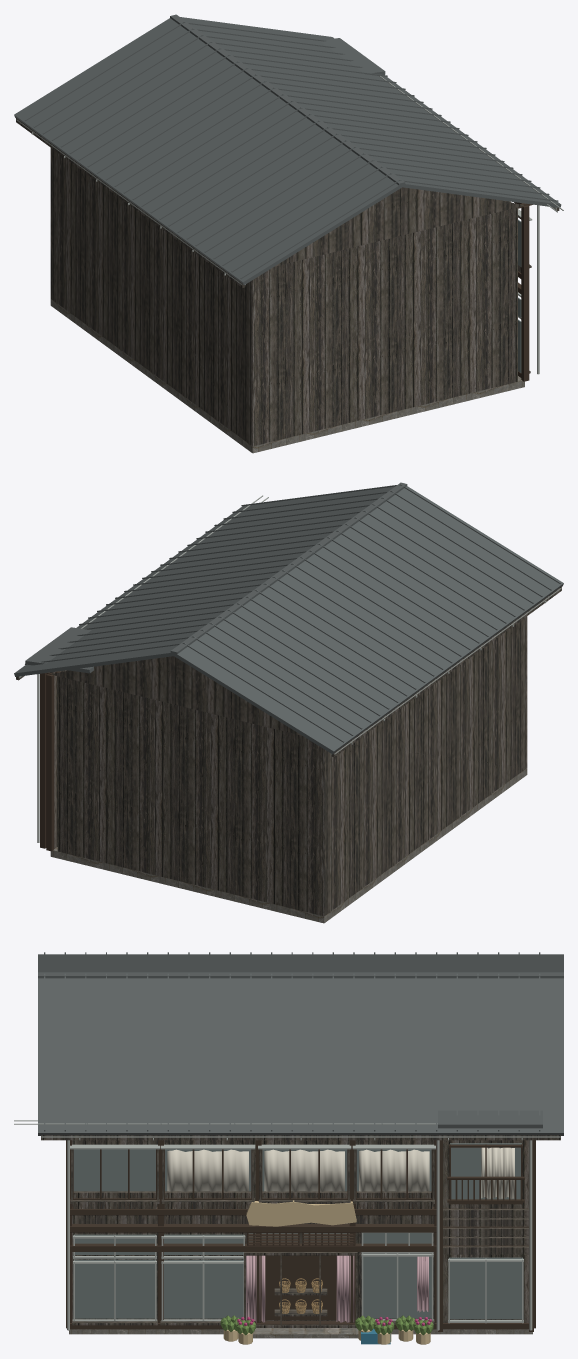
File: mori-workshop-v2.glb
3 views of the same model, one above another, from view 1: azimuth 30°, elevation 25°; view 2: azimuth 150°, elevation 25°; view 3: azimuth 270°, elevation 25° (orthographic). The views are drawn at different scales.
Parts seen in each view (by area): view 1: Craft display shelf runtime, Folded metal ridge cap runtime, Stone footing runtime, East continuous timber rail runtime, Downpipe runtime; view 2: Craft display shelf runtime, Folded metal ridge cap runtime, Stone footing runtime, East continuous timber rail runtime, Downpipe runtime; view 3: Folded metal ridge cap runtime, Recess behind window runtime, East continuous timber rail runtime, Craft display shelf runtime, Downpipe runtime, Folded fabric curtain runtime, Flower pot runtime, Folded fabric curtain.003 runtime, Stone footing runtime, Potted leaf clump runtime, Basket curved handle runtime.
Part boxes in pixels (x1=…): Craft display shelf runtime: x1=16, y1=118, x2=559, y2=446; Folded metal ridge cap runtime: x1=14, y1=14, x2=561, y2=284; Stone footing runtime: x1=50, y1=299, x2=524, y2=453; East continuous timber rail runtime: x1=514, y1=202, x2=532, y2=381; Downpipe runtime: x1=16, y1=75, x2=563, y2=374; Craft display shelf runtime: x1=16, y1=586, x2=561, y2=916; Folded metal ridge cap runtime: x1=14, y1=482, x2=563, y2=754; Stone footing runtime: x1=50, y1=768, x2=527, y2=923; East continuous timber rail runtime: x1=40, y1=671, x2=60, y2=851; Downpipe runtime: x1=19, y1=495, x2=561, y2=842; Folded metal ridge cap runtime: x1=38, y1=952, x2=563, y2=1135; Recess behind window runtime: x1=73, y1=1143, x2=522, y2=1319; East continuous timber rail runtime: x1=66, y1=1140, x2=535, y2=1331; Craft display shelf runtime: x1=41, y1=1135, x2=560, y2=1327; Downpipe runtime: x1=14, y1=1120, x2=560, y2=1330; Folded fabric curtain runtime: x1=167, y1=1147, x2=514, y2=1199; Flower pot runtime: x1=223, y1=1200, x2=430, y2=1344; Folded fabric curtain.003 runtime: x1=246, y1=1255, x2=428, y2=1322; Stone footing runtime: x1=69, y1=1328, x2=532, y2=1338; Potted leaf clump runtime: x1=220, y1=1315, x2=433, y2=1335; Basket curved handle runtime: x1=279, y1=1278, x2=322, y2=1313.
Bounding box in the file's own units: 11.65 × 8.53 × 14.93.
Materials: 13 (2 with a texture image).
